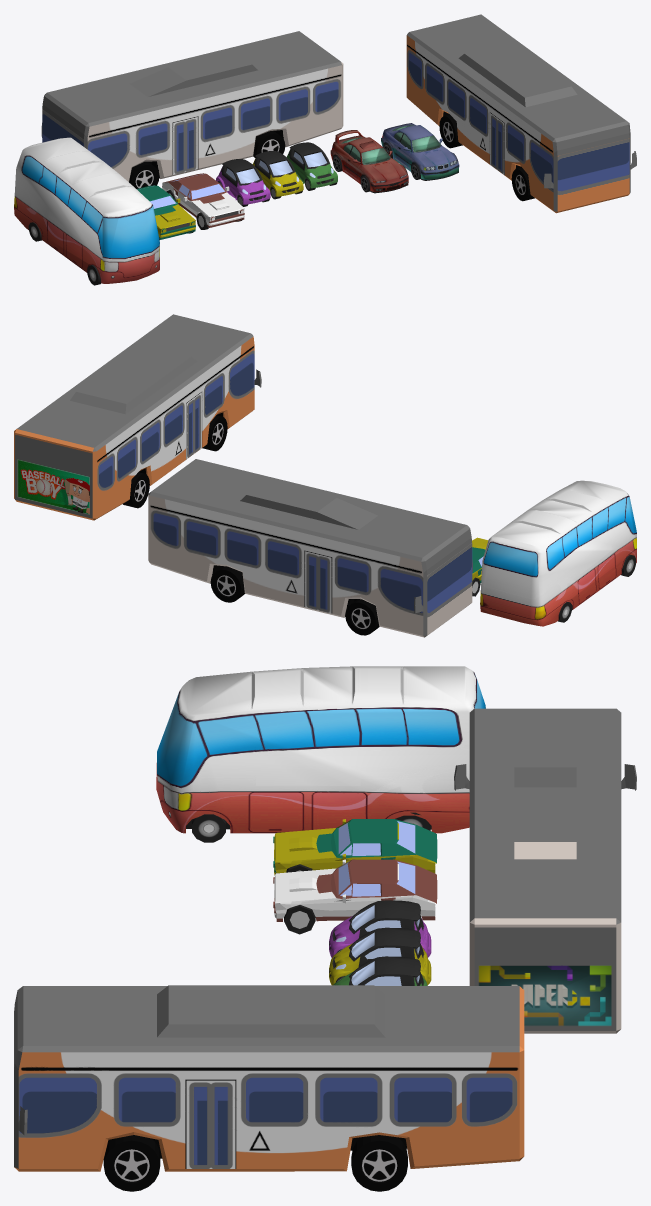
Rendered from ALL CARS.fbx.
The picture shows the model from 3 angles, top to bottom: view 1: azimuth 30°, elevation 25°; view 2: azimuth 150°, elevation 25°; view 3: azimuth 270°, elevation 25°; orthographic projection. The views are drawn at different scales.
Visible parts, largest first — view 1: BUS 2, BUS 1, BUS 3, CAR 1, CAR 2, CAR 6, CAR 5, CAR 7, CAR 3, CAR 4; view 2: BUS 2, BUS 1, BUS 3, CAR 7; view 3: BUS 1, BUS 3, BUS 2, CAR 6, CAR 7, CAR 4, CAR 5, CAR 3.
Boxes of the visible parts, bbox=[...] form: BUS 2: bbox=[41, 31, 343, 188]; BUS 1: bbox=[406, 14, 636, 213]; BUS 3: bbox=[14, 137, 159, 285]; CAR 1: bbox=[330, 130, 408, 193]; CAR 2: bbox=[381, 123, 459, 180]; CAR 6: bbox=[162, 173, 244, 229]; CAR 5: bbox=[216, 159, 270, 206]; CAR 7: bbox=[136, 185, 195, 239]; CAR 3: bbox=[286, 142, 337, 190]; CAR 4: bbox=[252, 151, 303, 199]; BUS 2: bbox=[148, 459, 472, 637]; BUS 1: bbox=[14, 314, 261, 520]; BUS 3: bbox=[480, 480, 636, 626]; CAR 7: bbox=[472, 537, 488, 596]; BUS 1: bbox=[14, 985, 524, 1191]; BUS 3: bbox=[156, 666, 485, 842]; BUS 2: bbox=[454, 708, 636, 1033]; CAR 6: bbox=[273, 859, 437, 934]; CAR 7: bbox=[273, 819, 437, 875]; CAR 4: bbox=[329, 927, 431, 985]; CAR 5: bbox=[329, 900, 431, 957]; CAR 3: bbox=[333, 956, 427, 985].
Bounding box in the file's own units: 4498 × 821 × 2907.
